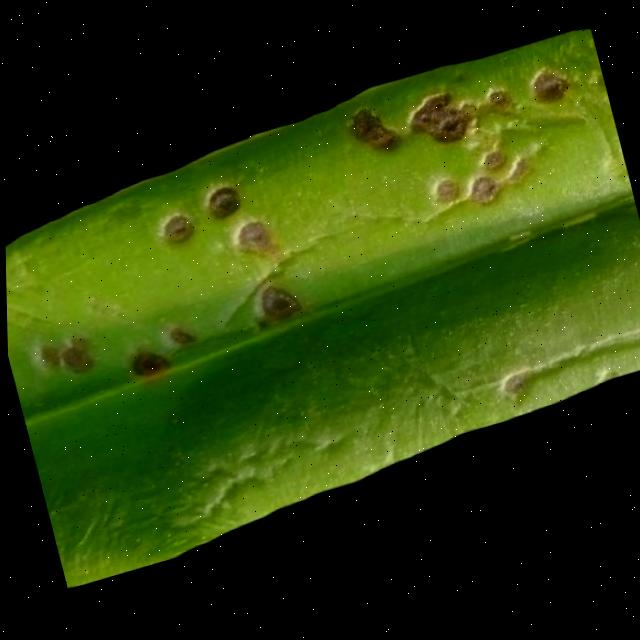mite: (4, 53, 617, 409), (4, 169, 308, 411), (29, 270, 307, 408), (198, 172, 302, 340), (401, 91, 478, 159), (341, 104, 402, 166), (253, 281, 301, 329), (53, 336, 95, 380), (230, 220, 273, 262), (124, 346, 169, 385), (201, 185, 242, 225), (462, 176, 501, 215), (155, 212, 195, 250), (427, 180, 461, 215), (162, 323, 195, 353)
